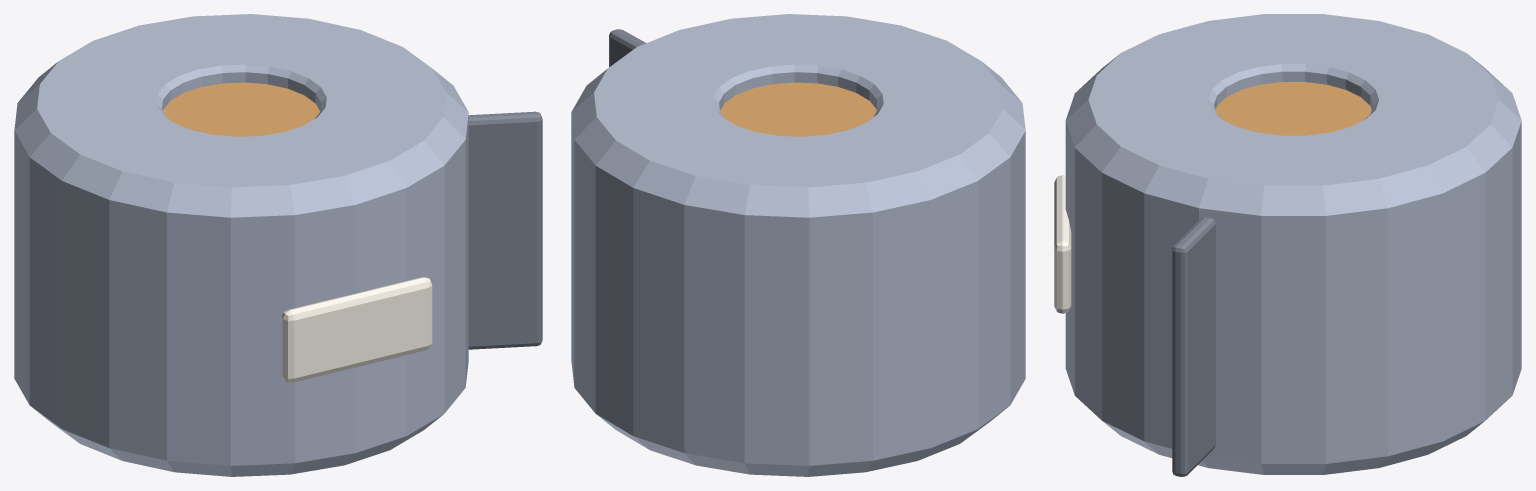
The model's file is roll.glb.
3 renders of one model, left to right at view 1: azimuth 30°, elevation 25°; view 2: azimuth 150°, elevation 25°; view 3: azimuth 270°, elevation 25°, orthographic.
Visible parts, largest first — view 1: roll; view 2: roll; view 3: roll.
Part boxes in pixels (box(x1,y1,x2,y2)): roll: box(14, 14, 542, 476); roll: box(571, 14, 1025, 476); roll: box(1054, 14, 1521, 476).
Size of the model in its own units: 0.8892 by 0.56 by 0.82.
